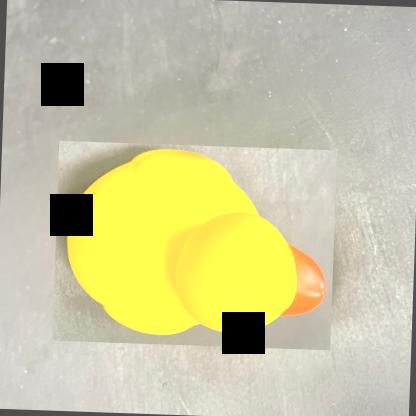duck: (52, 141, 337, 351)
